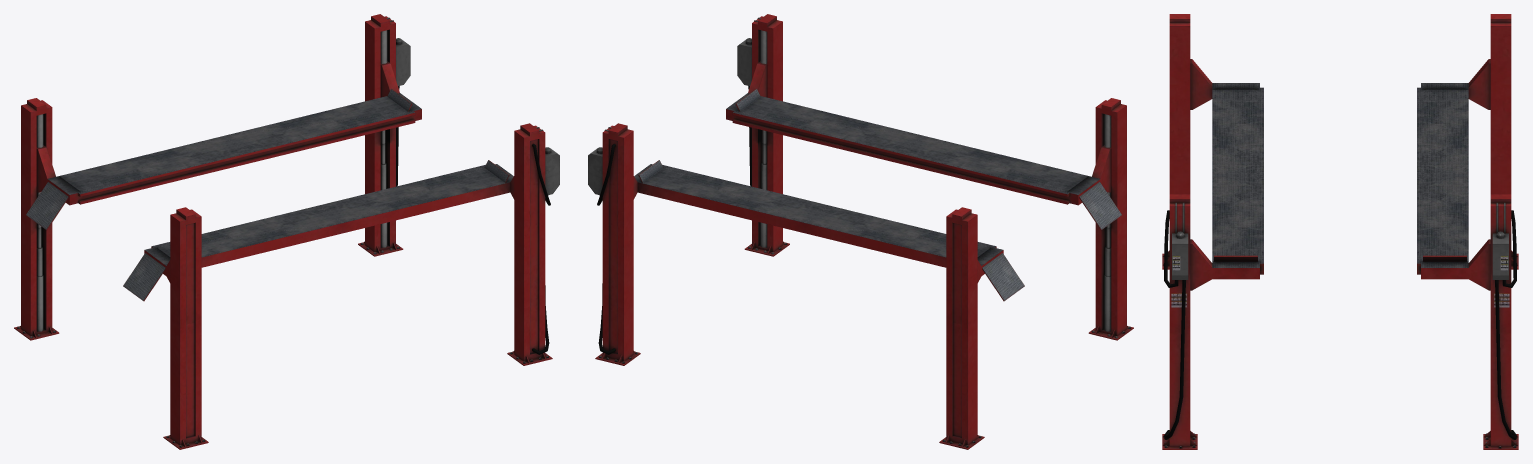
File: elevador-4-postes.glb
3 views of the same model, side by side, from view 1: azimuth 30°, elevation 25°; view 2: azimuth 150°, elevation 25°; view 3: azimuth 270°, elevation 25° (orthographic). The views are drawn at different scales.
Parts seen in each view (by area): view 1: Carlift_Material #25_0; view 2: Carlift_Material #25_0; view 3: Carlift_Material #25_0.
Part boxes in pixels (left/top/right/bottom): Carlift_Material #25_0: left=14, top=14, right=559, bottom=449; Carlift_Material #25_0: left=588, top=14, right=1133, bottom=449; Carlift_Material #25_0: left=1162, top=14, right=1518, bottom=449.
Size of the model in its own units: 5.23 by 2.88 by 3.78.
1 material, 1 textured.
